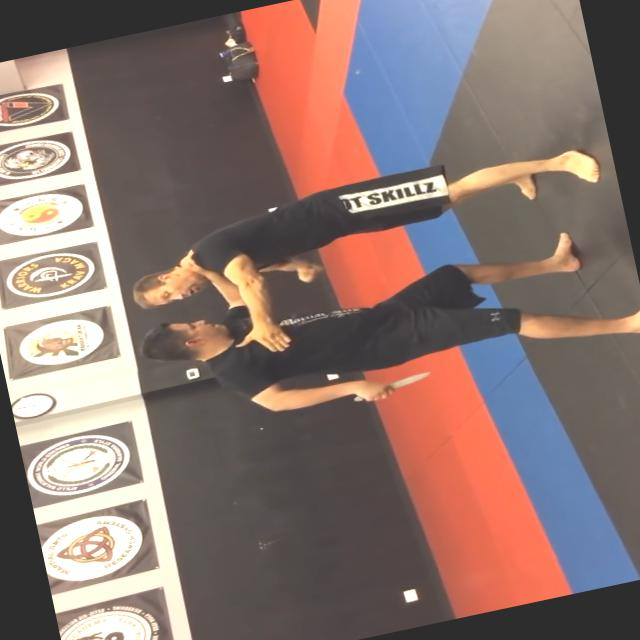knife: (342, 362, 440, 407)
